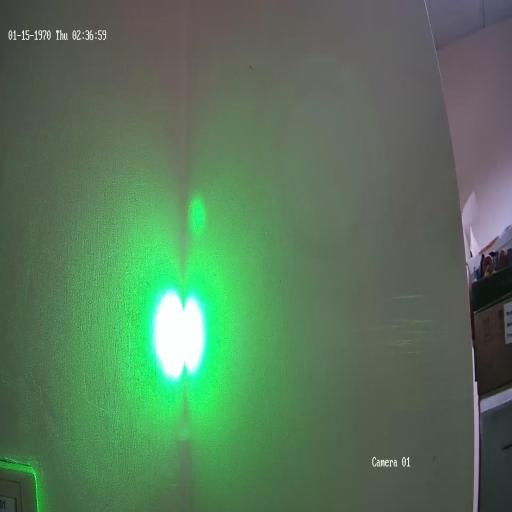laser: (140, 260, 219, 401)
